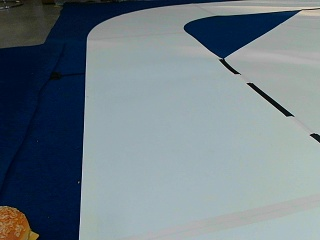burger: (0, 204, 36, 240)
